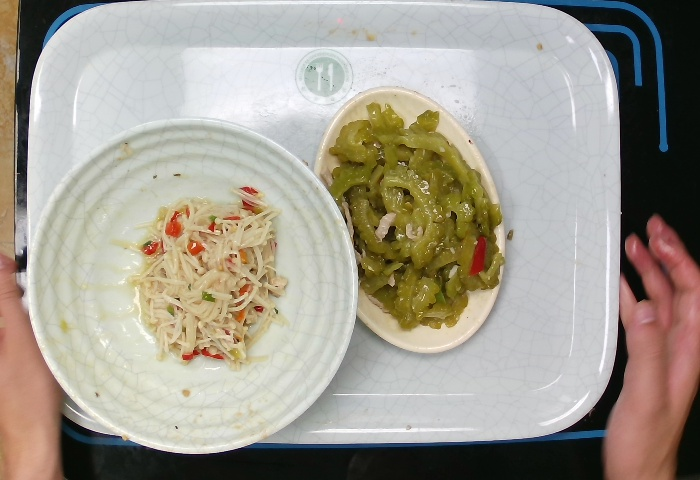JYsf-Da_Tang_Wan: (24, 116, 360, 456)
JYsf-Tuo_Yuan_Wan: (310, 83, 507, 354)
